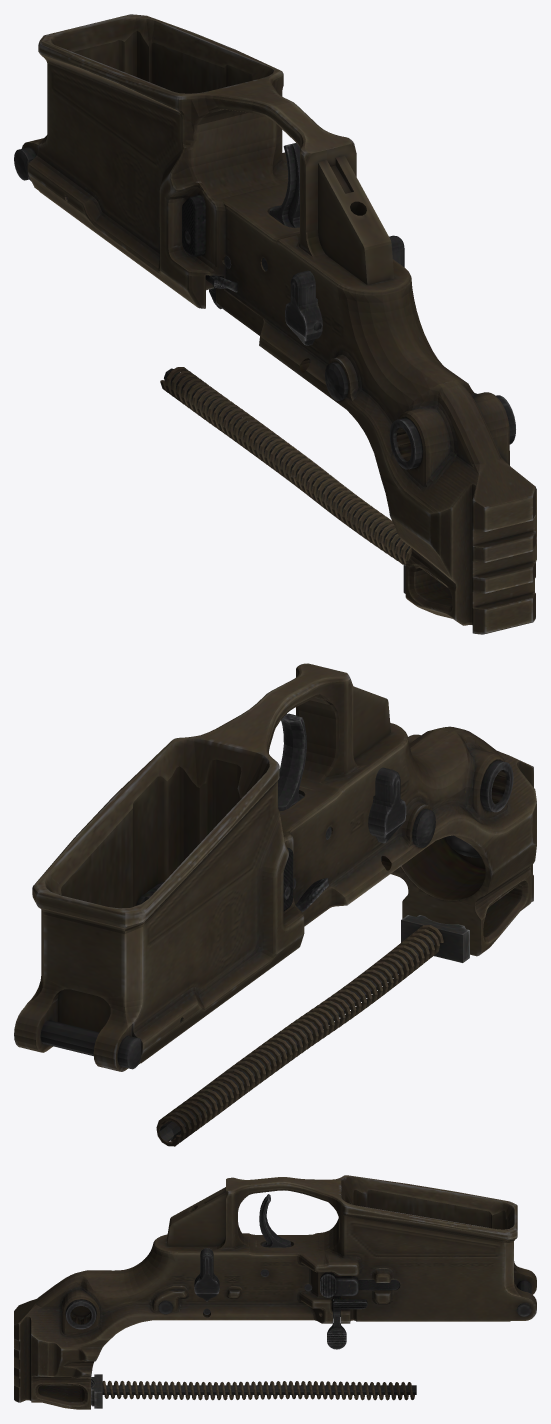
3 renders of one model, top to bottom at view 1: azimuth 30°, elevation 25°; view 2: azimuth 150°, elevation 25°; view 3: azimuth 270°, elevation 25°, orthographic. The views are drawn at different scales.
Visible parts, largest first — view 1: TW_65290f395ae2ae97b80fdf2d_PZ_Import; view 2: TW_65290f395ae2ae97b80fdf2d_PZ_Import; view 3: TW_65290f395ae2ae97b80fdf2d_PZ_Import.
Boxes of the visible parts, bbox=[...] form: TW_65290f395ae2ae97b80fdf2d_PZ_Import: bbox=[14, 14, 536, 634]; TW_65290f395ae2ae97b80fdf2d_PZ_Import: bbox=[14, 663, 536, 1146]; TW_65290f395ae2ae97b80fdf2d_PZ_Import: bbox=[14, 1175, 536, 1409].
Bounding box in the file's own units: 0.0255 × 0.149 × 0.0693.
Materials: 1 (1 with a texture image).
